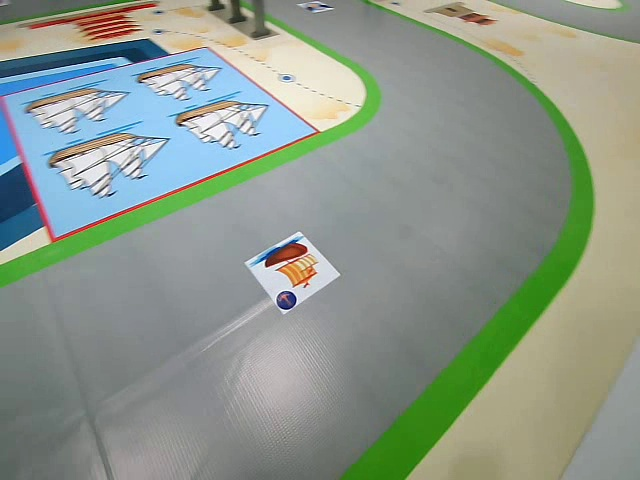fishingBoatsSingLate: (243, 227, 343, 314)
